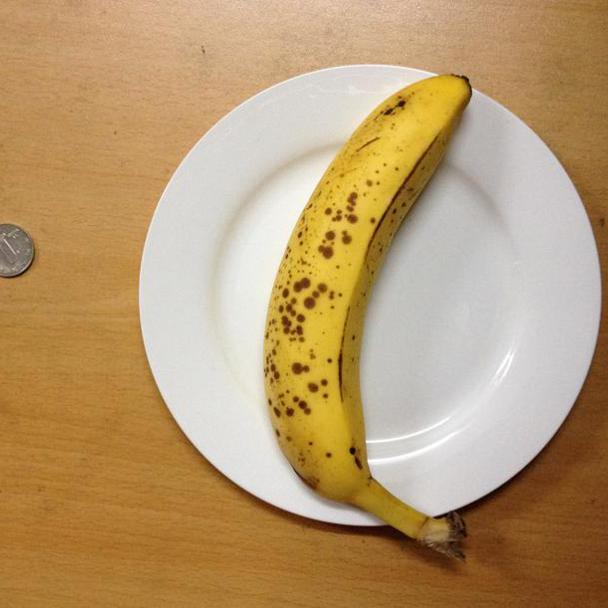banana: (262, 70, 499, 553)
